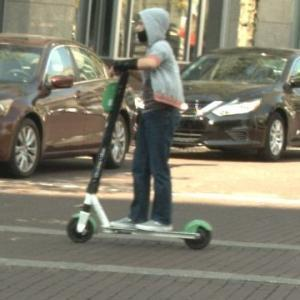with scooter: (66, 8, 212, 250)
